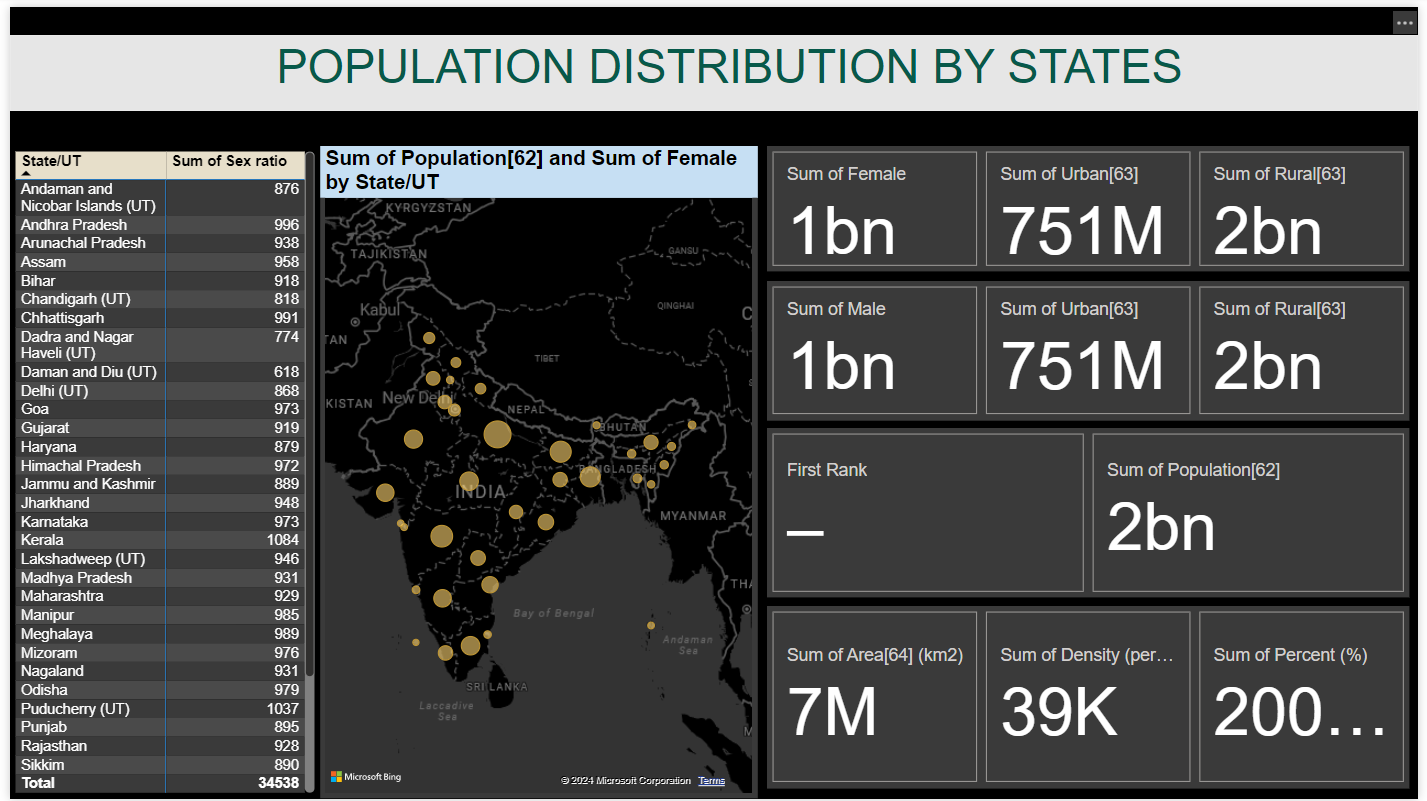

This screenshot's page, from the dashboard's own definition file:
{"tool":"powerbi","page":{"name":"Page 1","canvas":[1280,720],"ordinal":0},"visuals":[{"type":"map","fields":{"Category":["Population distribution by states/union territories (2011).State/UT"],"Size":["Sum(Population distribution by states/union territories (2011).Population[62])"]},"box":[289.1,105.5,403.4,604.7],"z":0},{"type":"pivotTable","fields":{"Rows":["Population distribution by states/union territories (2011).State/UT"],"Values":["Sum(Population distribution by states/union territories (2011).Sex ratio)"]},"box":[7.1,105.5,269.6,604.7],"z":1000},{"type":"cardVisual","fields":{"Data":["Sum(Population distribution by states/union territories (2011).Female)","Sum(Population distribution by states/union territories (2011).Urban[63])","Sum(Population distribution by states/union territories (2011).Rural[63])"]},"box":[700.5,105.5,573.7,142.8],"z":2000},{"type":"cardVisual","fields":{"Data":["Sum(Population distribution by states/union territories (2011).Male)","Sum(Population distribution by states/union territories (2011).Urban[63])","Sum(Population distribution by states/union territories (2011).Rural[63])"]},"box":[700.5,257.1,573.7,127.7],"z":3000},{"type":"cardVisual","fields":{"Data":["Min(Population distribution by states/union territories (2011).Rank)","Sum(Population distribution by states/union territories (2011).Population[62])"]},"box":[700.5,393.7,573.7,138.3],"z":4000},{"type":"cardVisual","fields":{"Data":["Sum(Population distribution by states/union territories (2011).Area[64] (km2))","Sum(Population distribution by states/union territories (2011).Density (per km2))","Sum(Population distribution by states/union territories (2011).Percent (%))"]},"box":[700.5,541.8,573.7,168.5],"z":5000},{"type":"textbox","box":[0,25.9,1280,69],"z":6000}]}

Visuals, with their boxes in screenshot pixels (x1, y1, x2, y2), scaled from the page's 1280x720 canvas onto the 1427x801 screenshot:
map - Population distribution by states/union territories (2011).State/UT x Sum(Population distribution by states/union territories (2011).Population[62]): (x1=322, y1=117, x2=772, y2=790)
pivotTable - Population distribution by states/union territories (2011).State/UT x Sum(Population distribution by states/union territories (2011).Sex ratio): (x1=8, y1=117, x2=308, y2=790)
cardVisual - Sum(Population distribution by states/union territories (2011).Female) x Sum(Population distribution by states/union territories (2011).Urban[63]): (x1=781, y1=117, x2=1421, y2=276)
cardVisual - Sum(Population distribution by states/union territories (2011).Male) x Sum(Population distribution by states/union territories (2011).Urban[63]): (x1=781, y1=286, x2=1421, y2=428)
cardVisual - Min(Population distribution by states/union territories (2011).Rank) x Sum(Population distribution by states/union territories (2011).Population[62]): (x1=781, y1=438, x2=1421, y2=592)
cardVisual - Sum(Population distribution by states/union territories (2011).Area[64] (km2)) x Sum(Population distribution by states/union territories (2011).Density (per km2)): (x1=781, y1=603, x2=1421, y2=790)
textbox: (x1=0, y1=29, x2=1426, y2=106)
